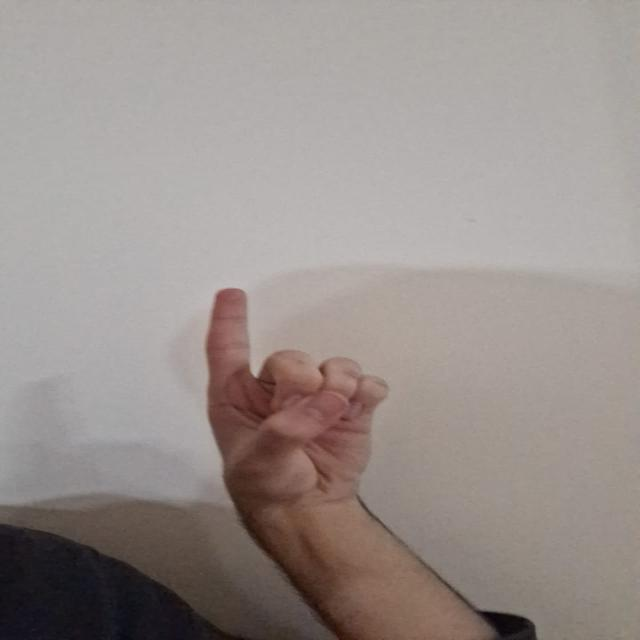D2: (184, 277, 397, 508)
